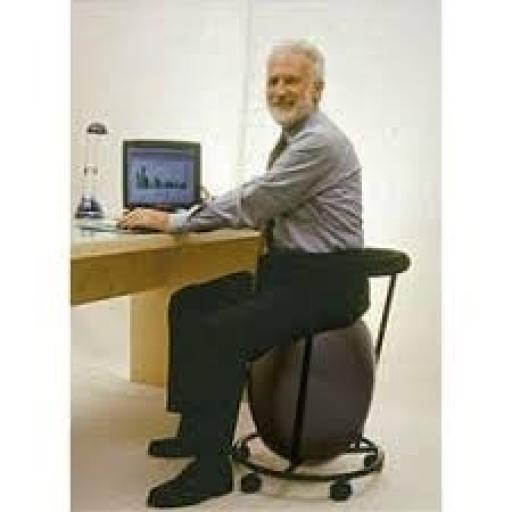sitting: (114, 34, 368, 508)
